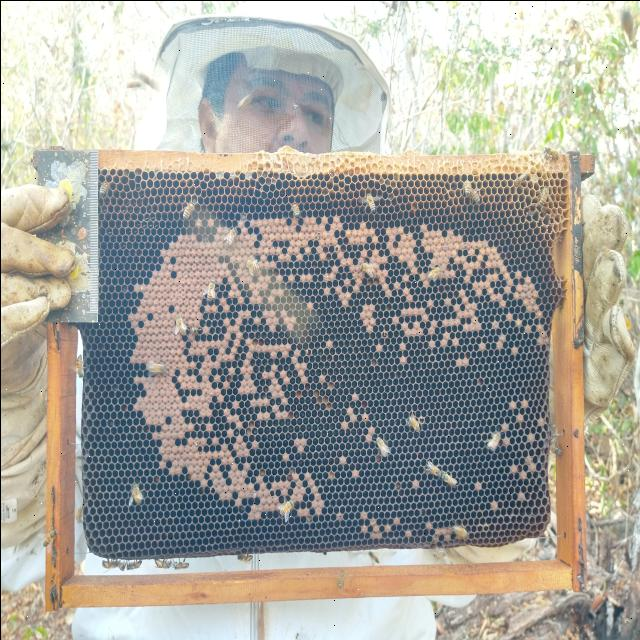cria: (124, 211, 548, 524), (473, 396, 544, 511)
marco: (70, 175, 565, 564)
